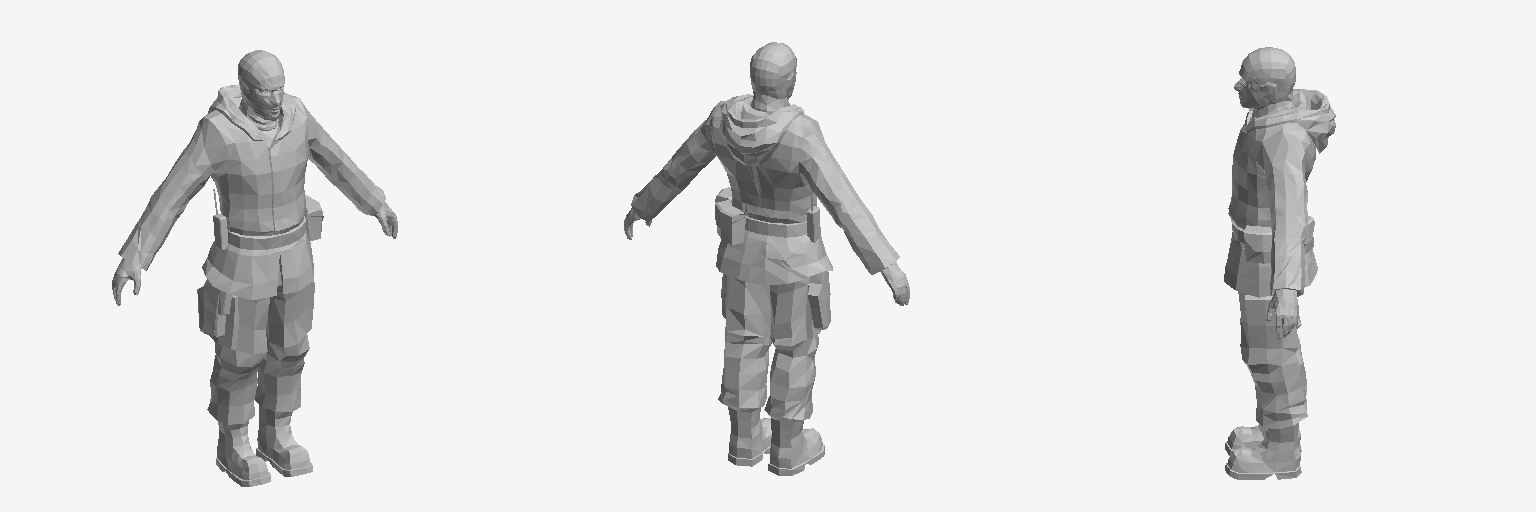
File: sadasd.obj
The picture shows the model from 3 angles: view 1: azimuth 30°, elevation 25°; view 2: azimuth 150°, elevation 25°; view 3: azimuth 270°, elevation 25°; orthographic projection.
Visible parts, largest first — view 1: t_arctic; view 2: t_arctic; view 3: t_arctic.
Boxes of the visible parts, <box> form: t_arctic: <box>112,50,397,486</box>; t_arctic: <box>624,42,909,475</box>; t_arctic: <box>1224,47,1335,479</box>.
Bounding box in the file's own units: 54.59 × 76.62 × 18.9.